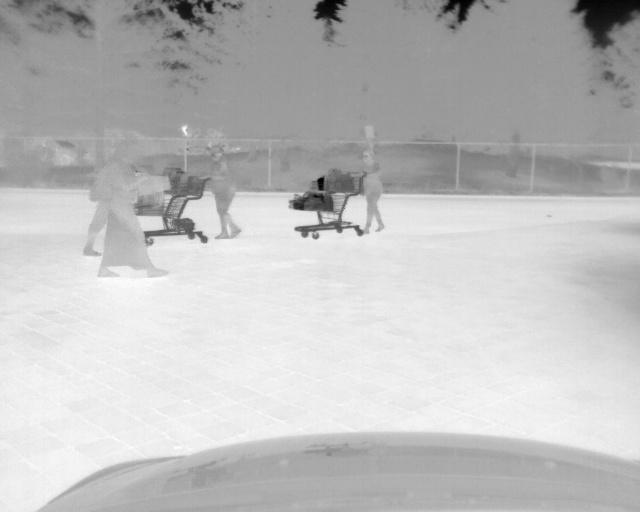people: (95, 131, 170, 278), (205, 144, 243, 241), (358, 145, 386, 235)
